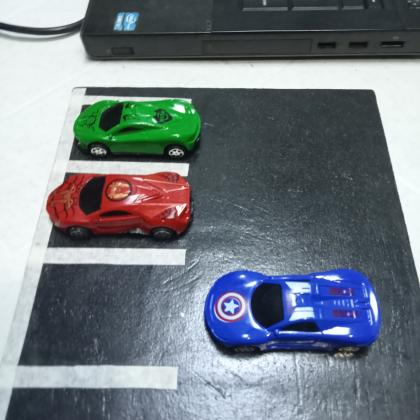Car: (204, 268, 382, 358), (45, 170, 194, 241), (71, 96, 203, 158)
